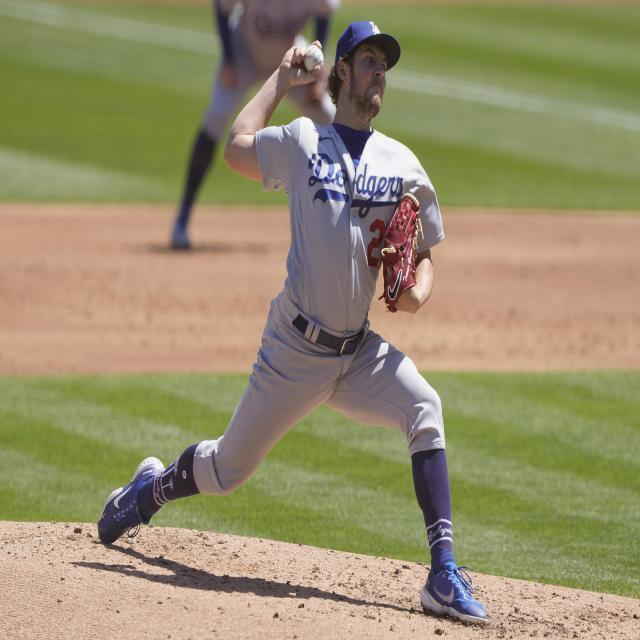sports ball: (304, 43, 326, 73)
